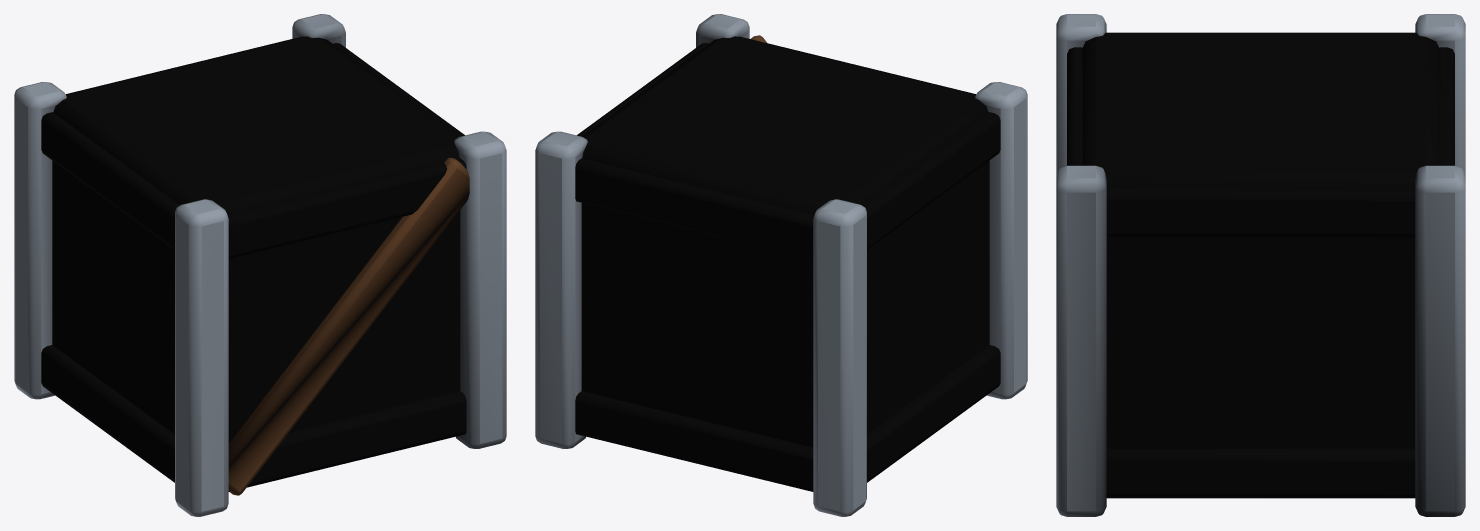
The model's file is junk_crate.glb.
The picture shows the model from 3 angles, left to right: view 1: azimuth 30°, elevation 25°; view 2: azimuth 150°, elevation 25°; view 3: azimuth 270°, elevation 25°; orthographic projection. The views are drawn at different scales.
Visible parts, largest first — view 1: crate_mesh; view 2: crate_mesh; view 3: crate_mesh.
Part boxes in pixels (box(x1,y1,x2,y2)): crate_mesh: box(14, 14, 506, 516); crate_mesh: box(535, 14, 1027, 516); crate_mesh: box(1056, 14, 1465, 516).
Bounding box in the file's own units: 0.57 × 0.52 × 0.57.
